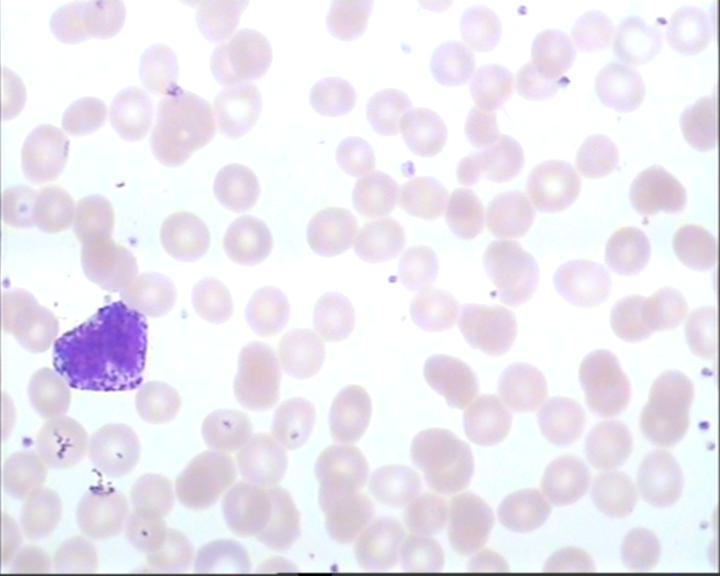baso: (46, 296, 153, 394)
